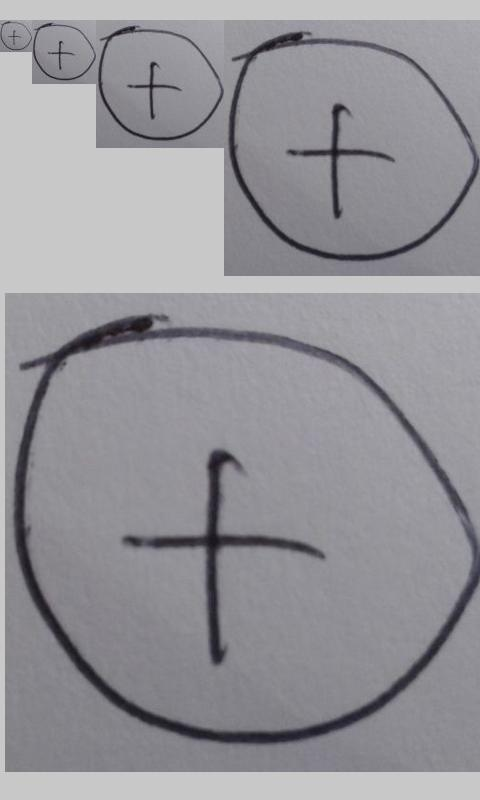button: (8, 322, 480, 749), (228, 30, 480, 262), (98, 25, 225, 141), (33, 23, 96, 81), (1, 22, 32, 50)
